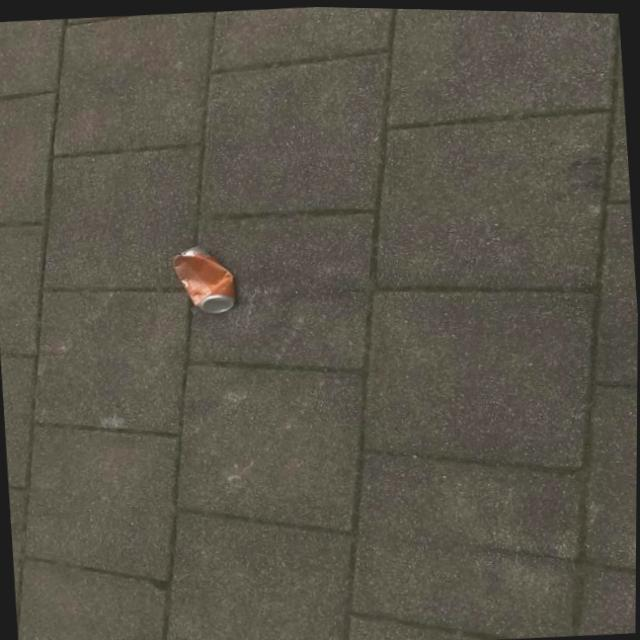Can-Metal: (164, 241, 238, 319)
